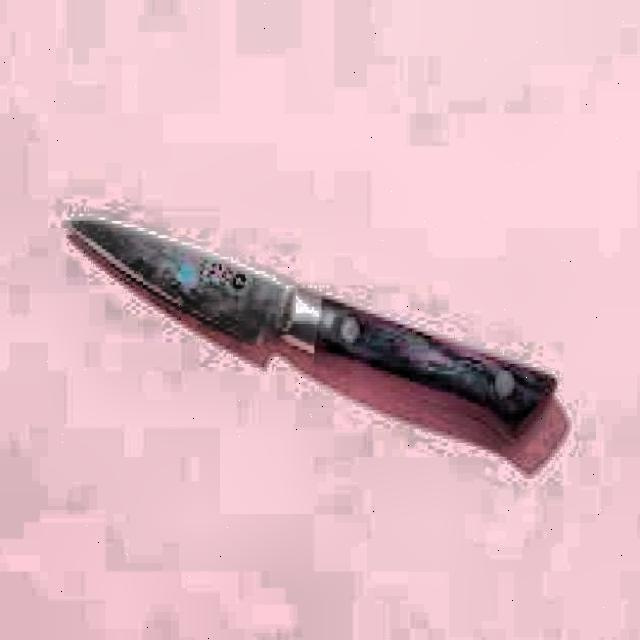knife: (65, 205, 562, 476)
